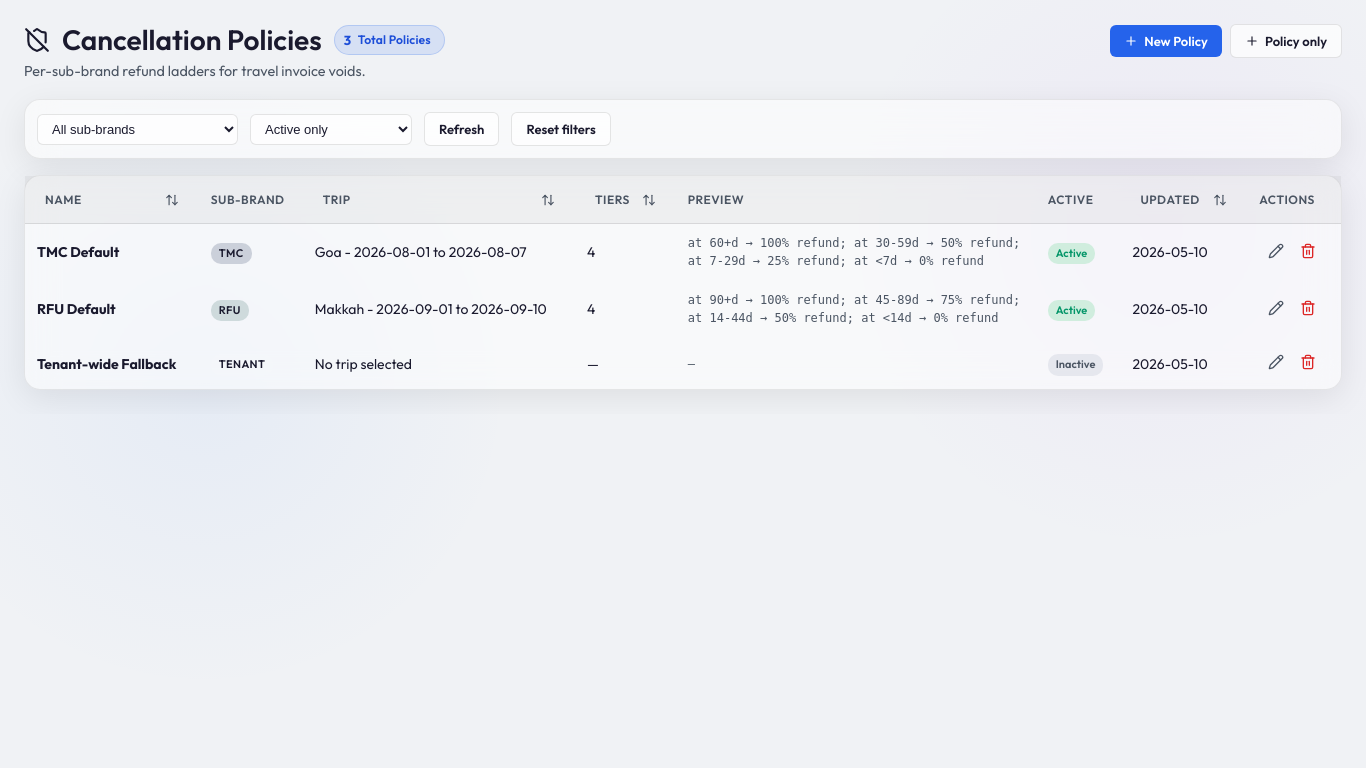
Test case: <CancellationPolicies /> — new-policy modal + create POST › clicking "New Policy" reveals the create form pre-populated with default ladder
The width and height of the screenshot is (1366, 768).
Expected: the text "TMC Default" is shown, [37,243,119,261]
Expected: the field labelled "Policy name" is not shown
Click the button "New Policy". click: (1166, 41)
box: [1110,25,1222,57]
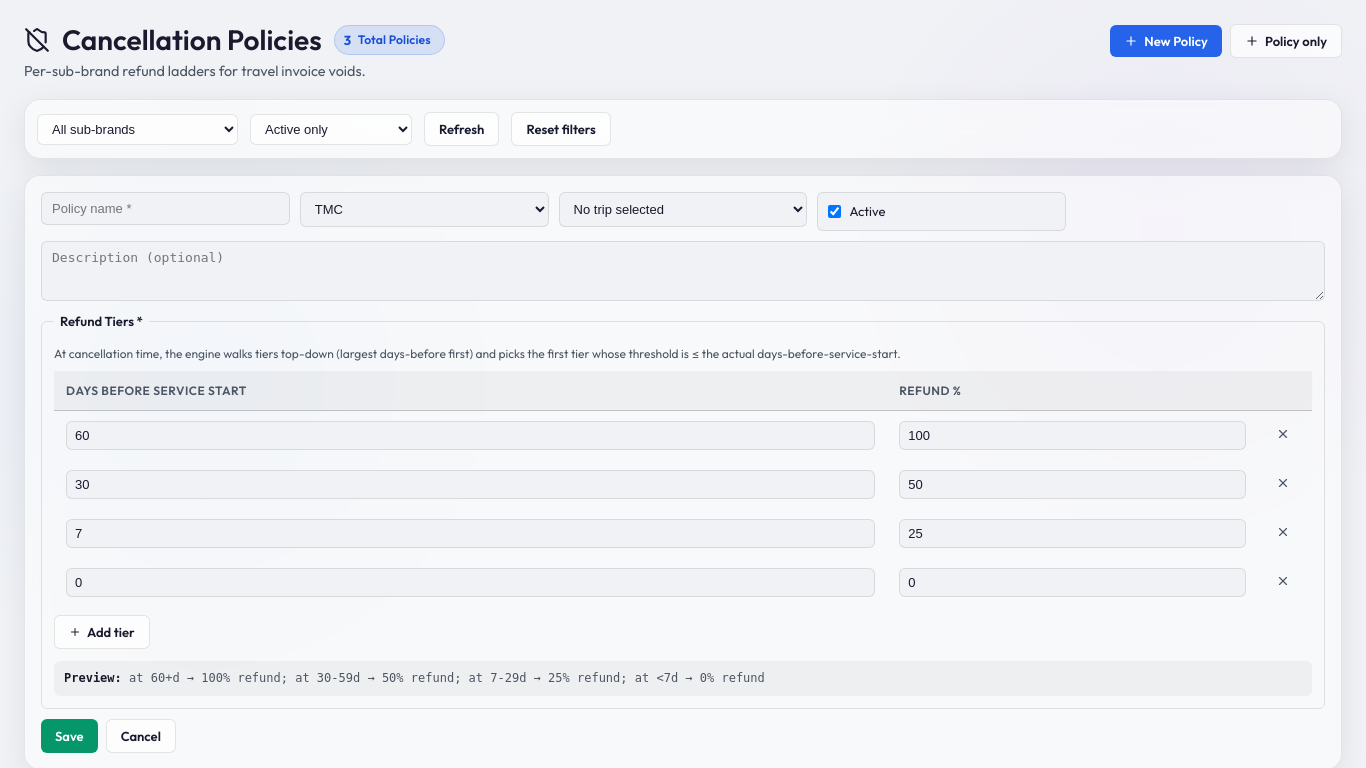
Now the field labelled "Policy name *" is shown, box [41,192,290,225]
Now the text box labelled "Description (optional)" is shown, box [41,241,1325,301]
Now the number field named "Tier 1 days" is shown, box [66,421,875,450]
